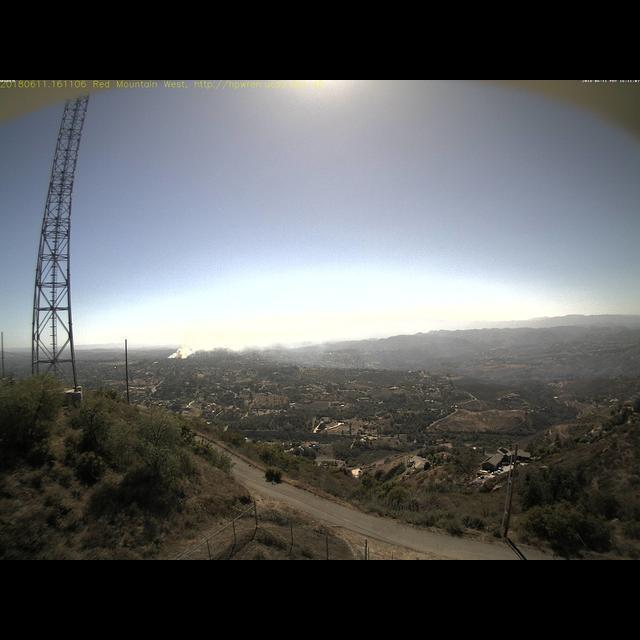Smoke: (165, 314, 343, 361)
